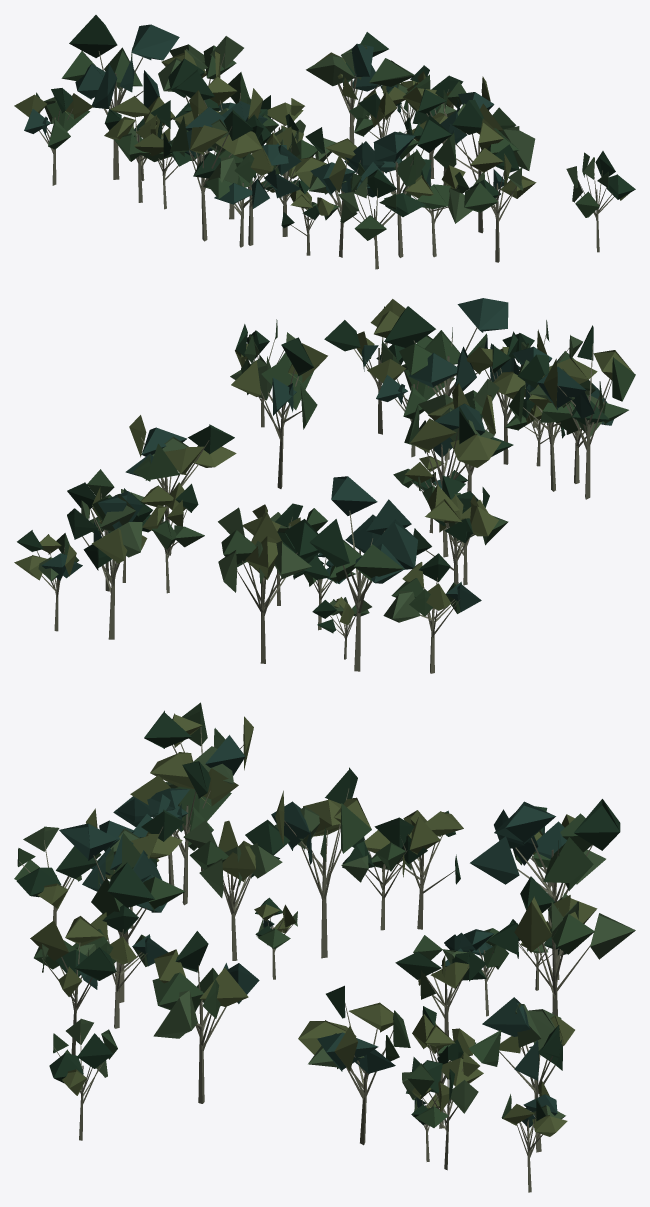
Rendered from forest_21_25.dae.
3 renders of one model, top to bottom at view 1: azimuth 30°, elevation 25°; view 2: azimuth 150°, elevation 25°; view 3: azimuth 270°, elevation 25°, orthographic. The views are drawn at different scales.
Parts seen in each view (by area): view 1: Node; view 2: Node; view 3: Node.
Part boxes in pixels (x1,y1,x2,y2): Node: (14, 15, 635, 269); Node: (14, 298, 635, 673); Node: (14, 702, 635, 1192).
Bounding box in the file's own units: 10.49 × 11.38 × 5.85.
